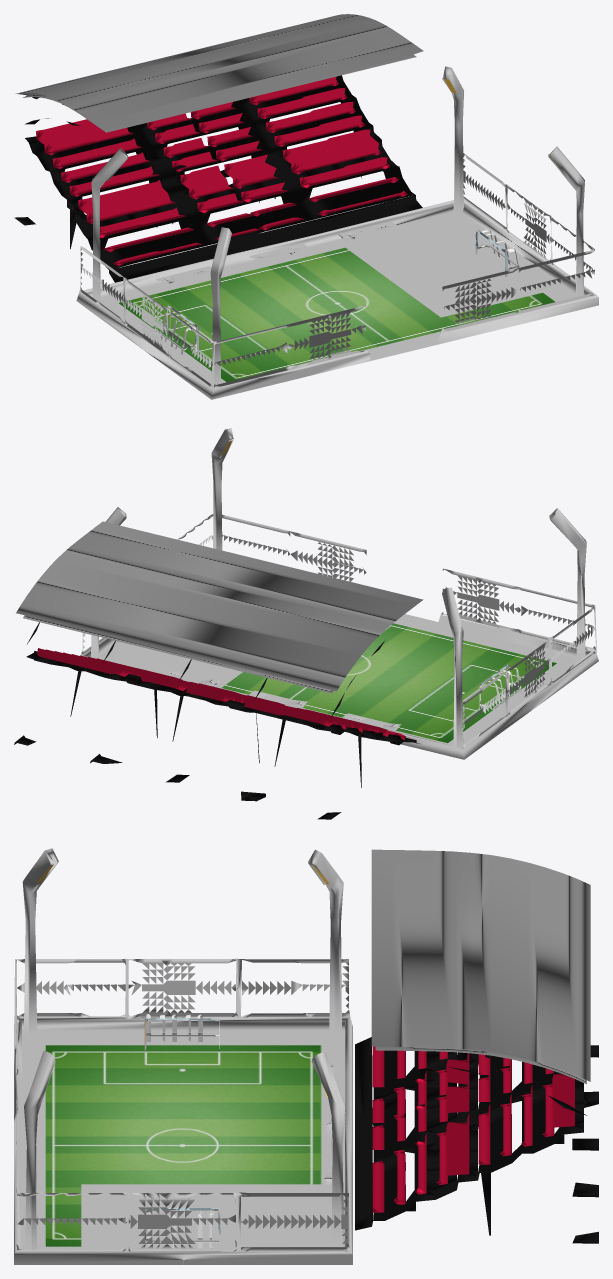
Rendered from football_court.glb.
3 renders of one model, top to bottom at view 1: azimuth 30°, elevation 25°; view 2: azimuth 150°, elevation 25°; view 3: azimuth 270°, elevation 25°, orthographic. The views are drawn at different scales.
Parts seen in each view (by area): view 1: body; view 2: body; view 3: body.
Boxes of the visible parts, bbox=[...] form: body: bbox=[14, 14, 598, 399]; body: bbox=[14, 428, 598, 819]; body: bbox=[14, 848, 598, 1264].
Bounding box in the file's own units: 42.13 × 16.4 × 43.88.
7 materials, 3 textured.
